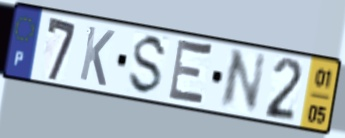2: (262, 56, 305, 123)
7: (47, 14, 78, 83)
E: (165, 35, 216, 111)
K: (77, 23, 117, 90)
N: (216, 47, 269, 114)
S: (125, 33, 170, 98)
